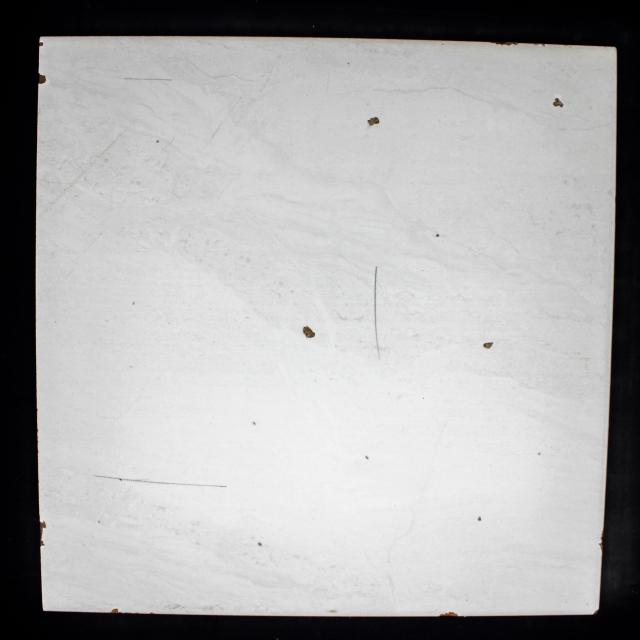edge-chipping: (39, 519, 47, 548), (487, 41, 520, 46), (438, 611, 459, 617), (598, 530, 604, 551), (38, 73, 47, 85), (110, 608, 119, 614), (593, 608, 599, 616), (39, 41, 44, 47)
hole: (301, 325, 316, 339), (367, 116, 380, 127), (552, 97, 564, 108), (482, 342, 494, 349), (477, 516, 482, 522), (257, 542, 262, 546), (436, 233, 440, 237)
line: (91, 474, 228, 489), (373, 266, 380, 360), (124, 77, 174, 81)
